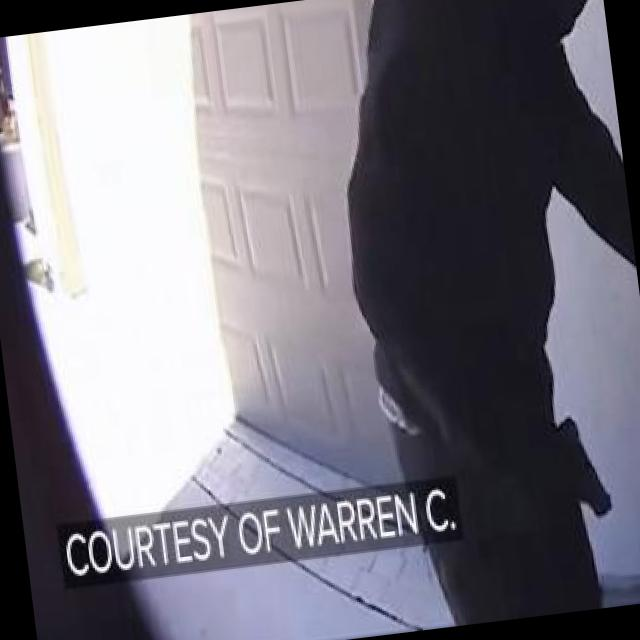Guns: (536, 404, 626, 534)
